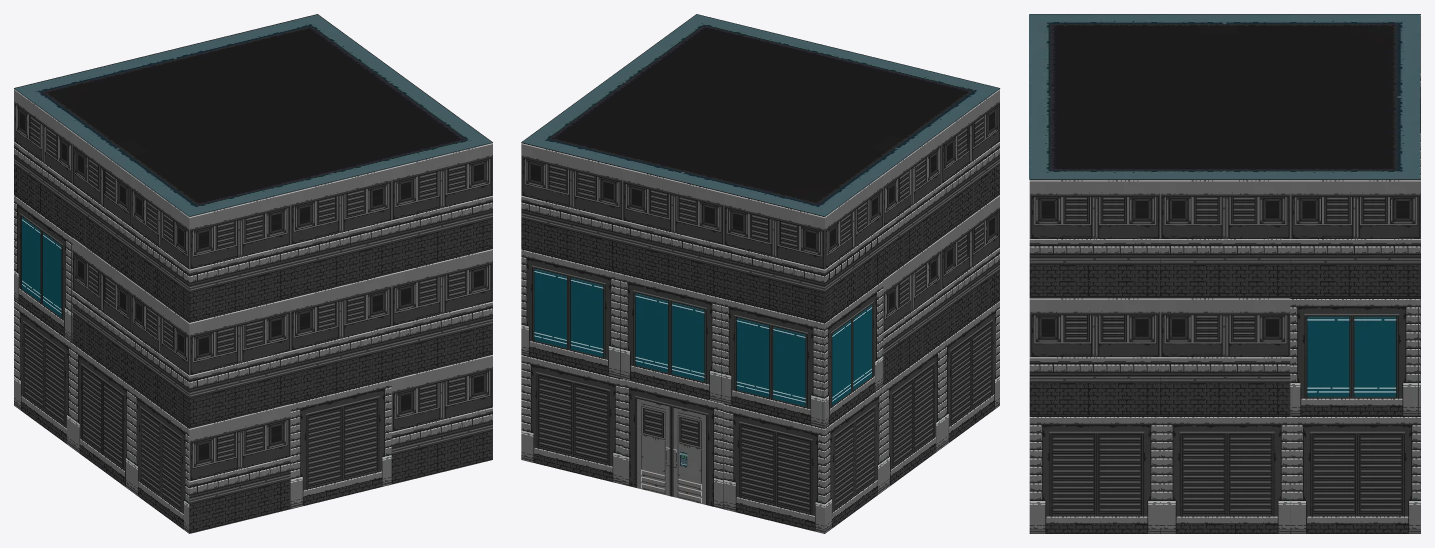
The model's file is cyb-predio-baixo.gltf.
3 renders of one model, left to right at view 1: azimuth 30°, elevation 25°; view 2: azimuth 150°, elevation 25°; view 3: azimuth 270°, elevation 25°, orthographic. The views are drawn at different scales.
Parts seen in each view (by area): view 1: 2story, roof2; view 2: 2story, roof2; view 3: 2story, roof2.
Boxes of the visible parts, bbox=[...] form: 2story: bbox=[14, 14, 492, 533]; roof2: bbox=[14, 14, 491, 216]; 2story: bbox=[521, 14, 999, 533]; roof2: bbox=[522, 14, 1000, 216]; 2story: bbox=[1029, 14, 1420, 533]; roof2: bbox=[1029, 14, 1420, 179].
Bounding box in the file's own units: 6.01 × 6 × 6.01.
Materials: 2 (2 with a texture image).
